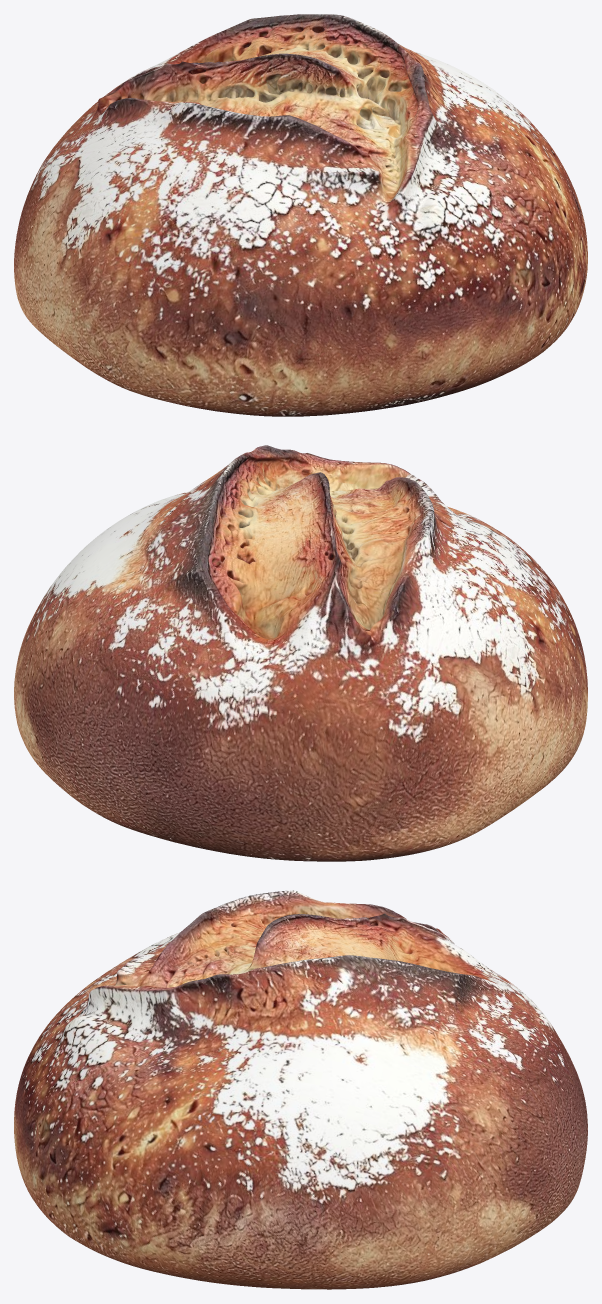
Rendered from chleb.glb.
3 views of the same model, one above another, from view 1: azimuth 30°, elevation 25°; view 2: azimuth 150°, elevation 25°; view 3: azimuth 270°, elevation 25° (orthographic).
Visible parts, largest first — view 1: model; view 2: model; view 3: model.
Boxes of the visible parts, <box> form: model: <box>14,14,587,416</box>; model: <box>14,445,587,861</box>; model: <box>14,890,587,1289</box>.
Size of the model in its own units: 1.87 by 0.986 by 1.9.
Materials: 1 (1 with a texture image).
